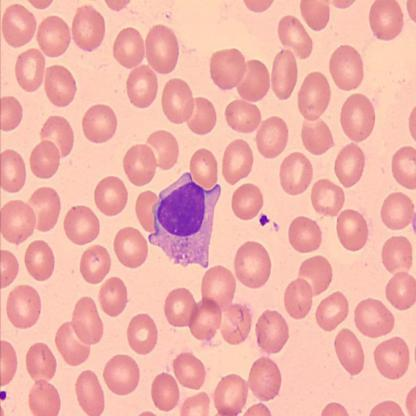Atypical lymphocyte: (149, 174, 220, 264)
